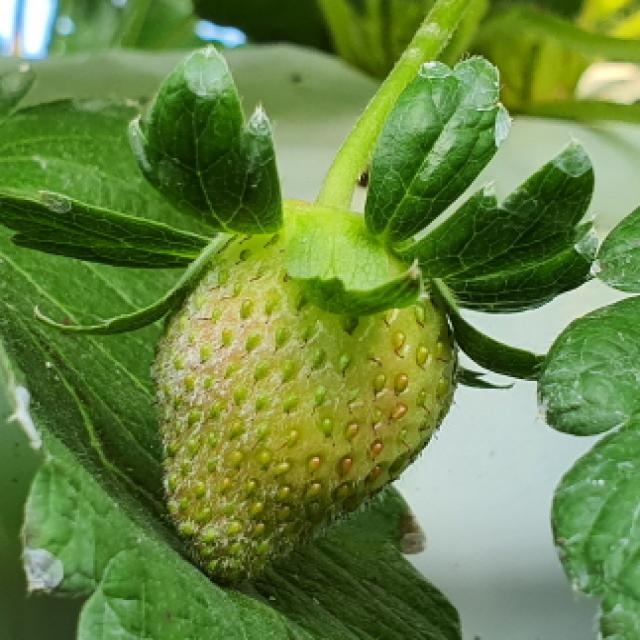Powdery Mildew Fruit: (153, 264, 352, 581)
